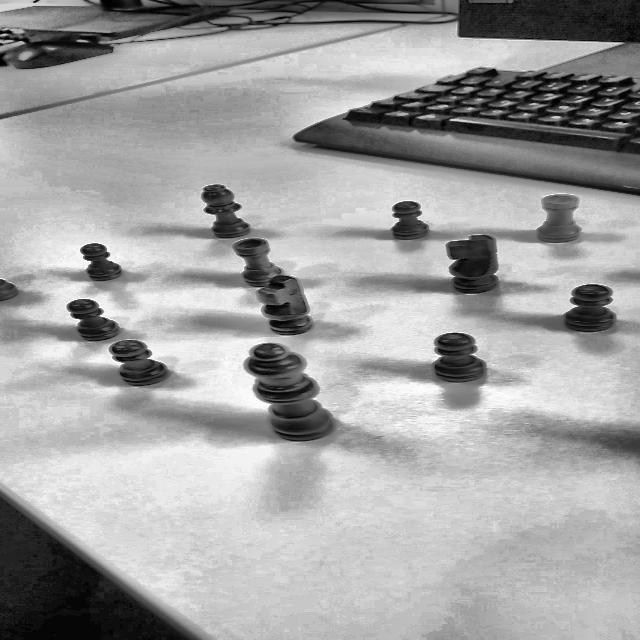black-bishop: (191, 178, 261, 237)
black-knight: (235, 273, 329, 339), (444, 232, 506, 295)
black-pawn: (421, 330, 493, 387), (557, 283, 624, 335), (102, 341, 176, 388), (58, 294, 124, 343), (73, 242, 133, 285), (382, 199, 433, 241)
black-queen: (231, 340, 363, 444)
black-rook: (218, 234, 298, 288), (526, 192, 594, 248)
